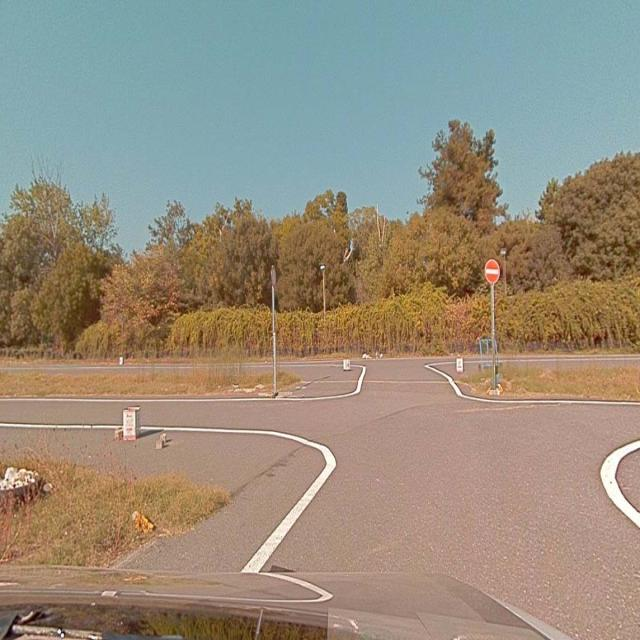girisyok: (484, 260, 500, 284)
